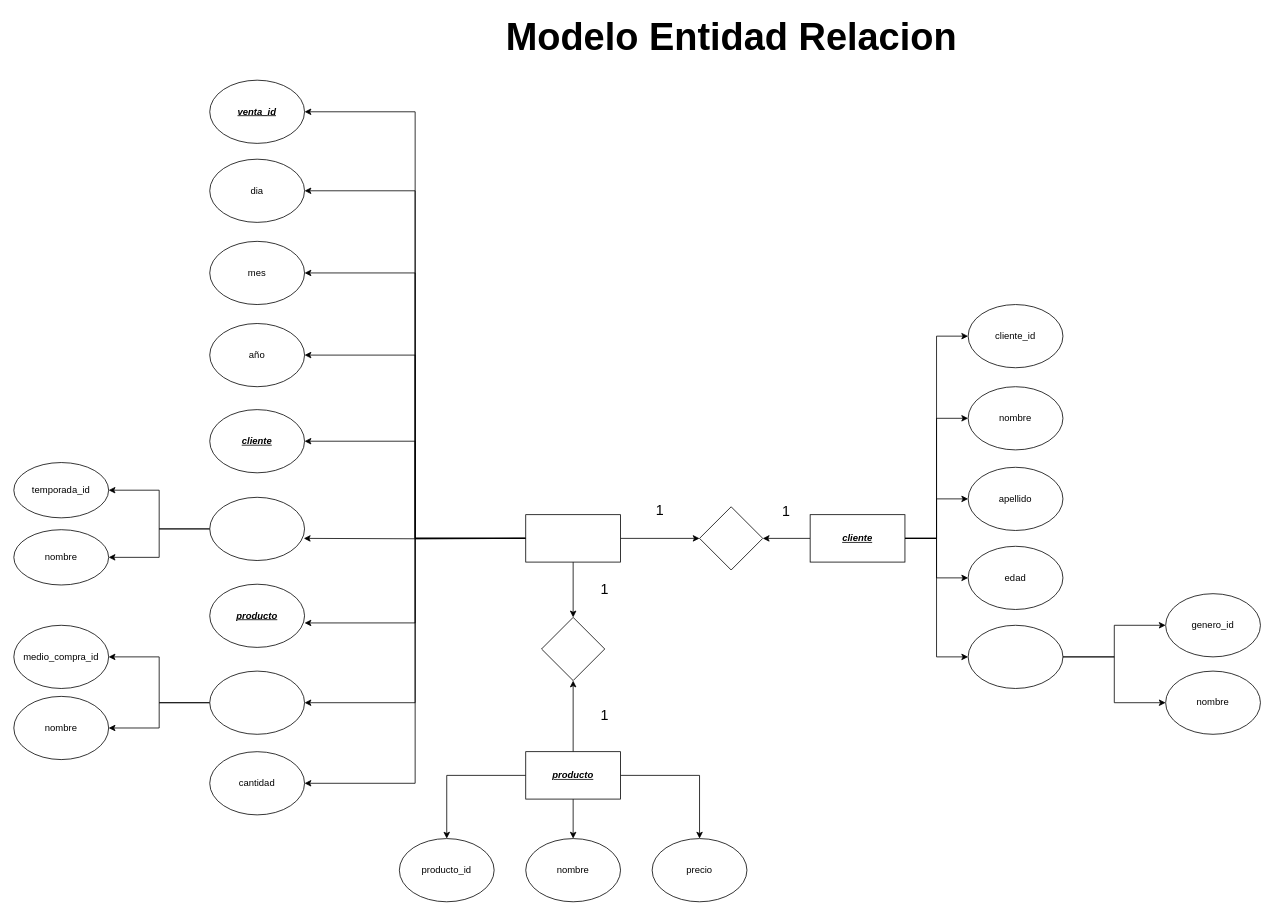
Image size: 1274x916. Some labels were removed from this diagram. Each missing label, with the centre of its shape:
"genero" goes at [1015,656].
"medio_compra" goes at [257,702].
"Pertence" goes at [731,538].
"Se vende" goes at [573,649].
"temporada" goes at [257,529].
"venta" goes at [573,538].
